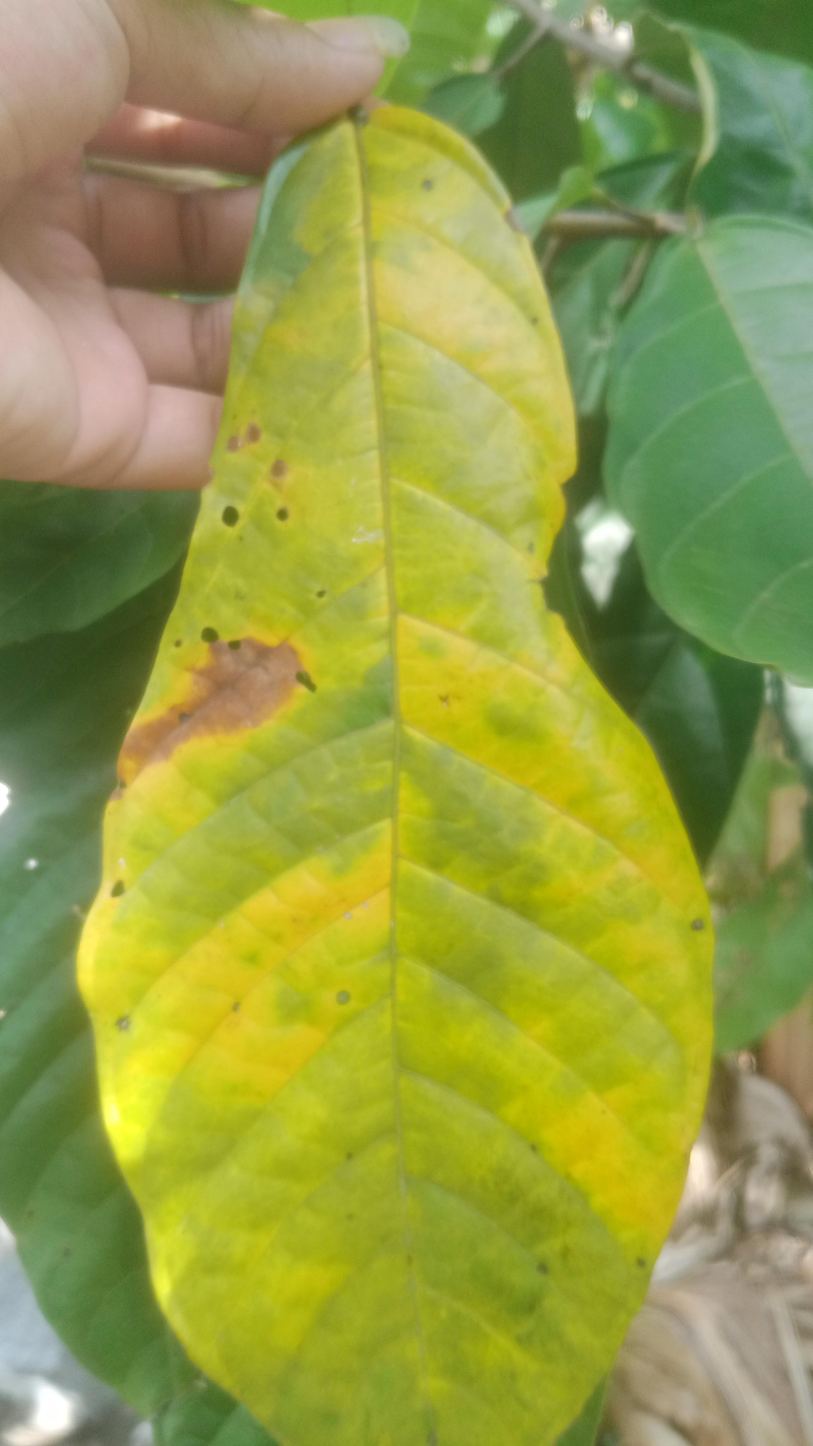deficiencia_potasio: (87, 98, 693, 1446)
